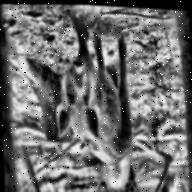boar: (48, 14, 135, 192)
